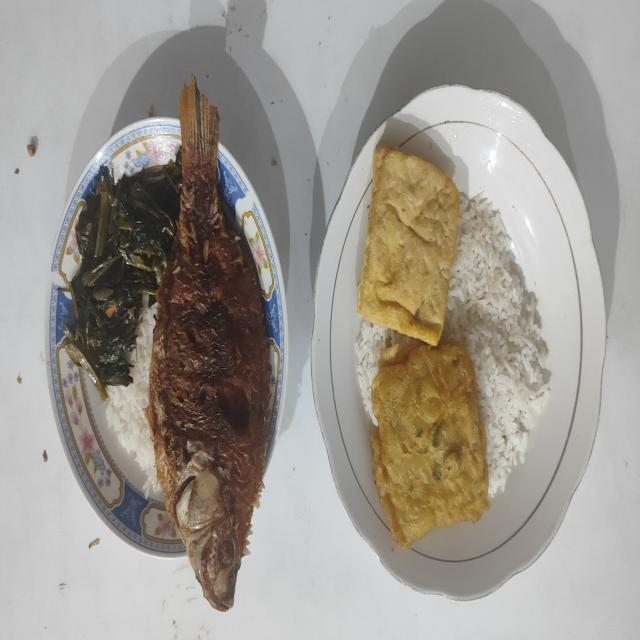ikan_mujair: (146, 79, 270, 610)
nasi_putih: (444, 194, 550, 496), (106, 300, 160, 495), (356, 320, 389, 410)
tahu_goreng: (358, 146, 460, 344)
tumis_kangkung: (61, 152, 182, 398)
